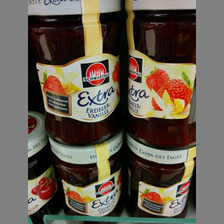jam: (28, 1, 121, 144), (123, 1, 196, 148), (123, 132, 196, 217), (48, 137, 125, 217)
